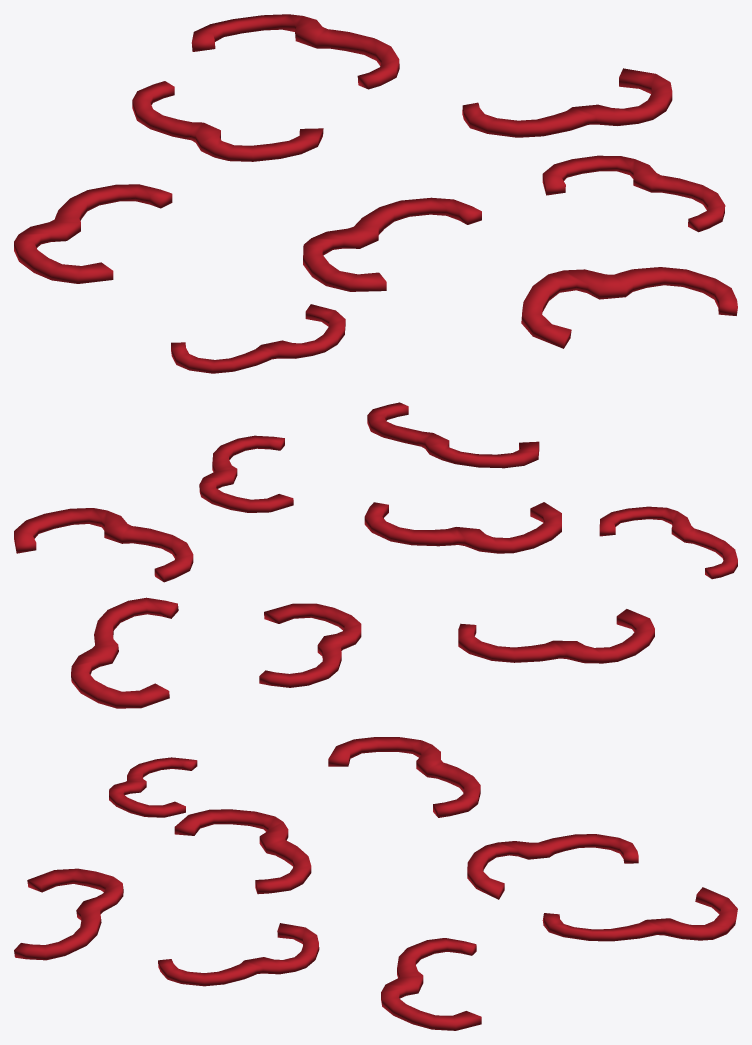
The model's file is Pizza_Pepper.fbx.
3 renders of one model, top to bottom at view 1: azimuth 30°, elevation 25°; view 2: azimuth 150°, elevation 25°; view 3: azimuth 270°, elevation 25°, orthographic. The views are drawn at different scales.
Parts seen in each view (by area): view 1: 7pepper.007; view 2: 7pepper.007; view 3: 7pepper.007.
Part boxes in pixels (box(x1,y1,x2,y2)): 7pepper.007: box(14, 14, 737, 373); 7pepper.007: box(14, 402, 737, 708); 7pepper.007: box(14, 737, 737, 1030).
Size of the model in its own units: 43.02 by 1.85 by 47.13.
